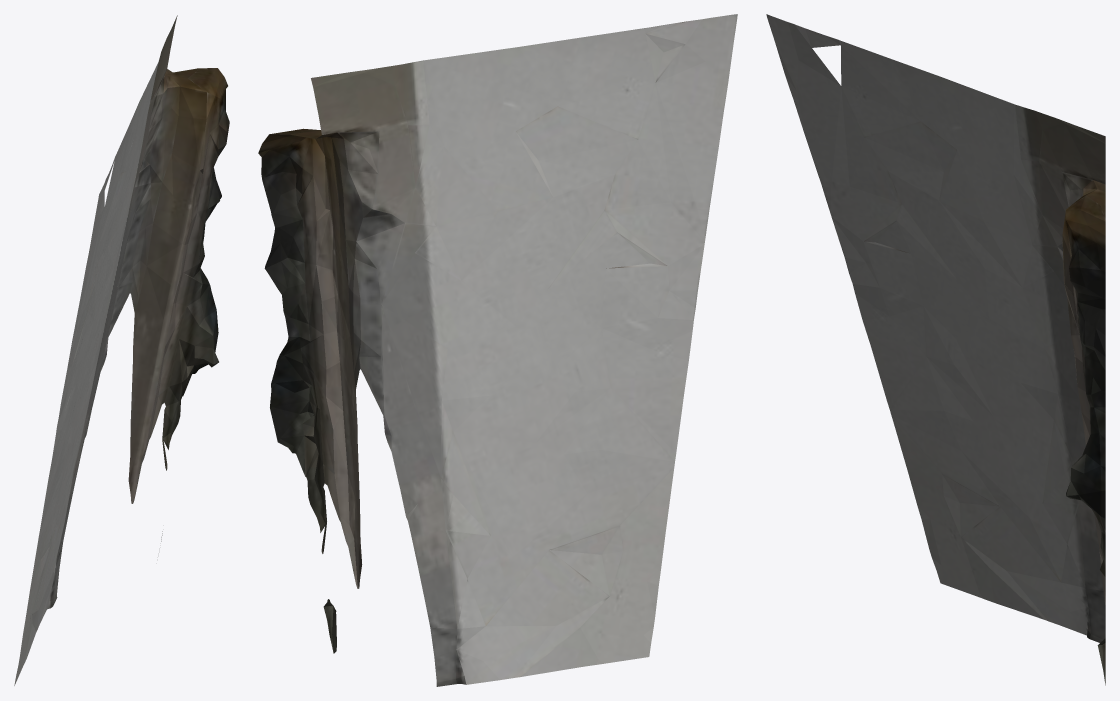
The picture shows the model from 3 angles, left to right: view 1: azimuth 30°, elevation 25°; view 2: azimuth 150°, elevation 25°; view 3: azimuth 270°, elevation 25°; orthographic projection. The views are drawn at different scales.
Bounding box in the file's own units: 0.931 × 1.67 × 0.9048.
2 materials, 2 textured.
